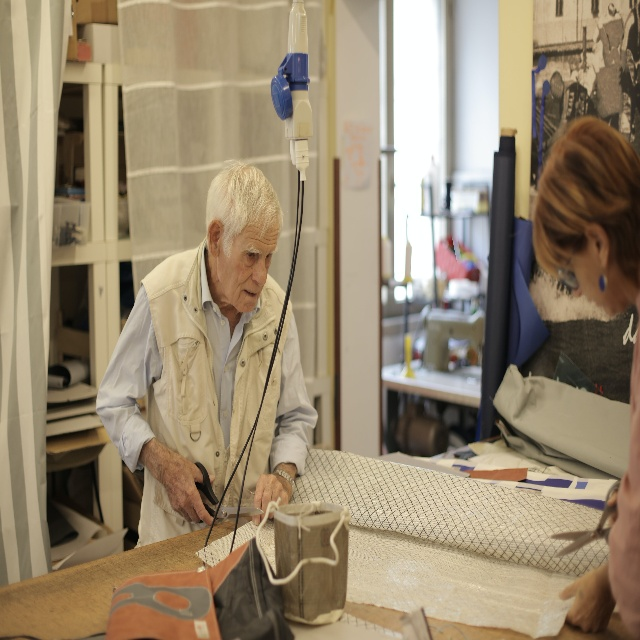Gafas: (558, 249, 579, 290)
Sin_guantes: (164, 454, 217, 526), (560, 569, 615, 634), (251, 473, 290, 527), (607, 488, 618, 527)
